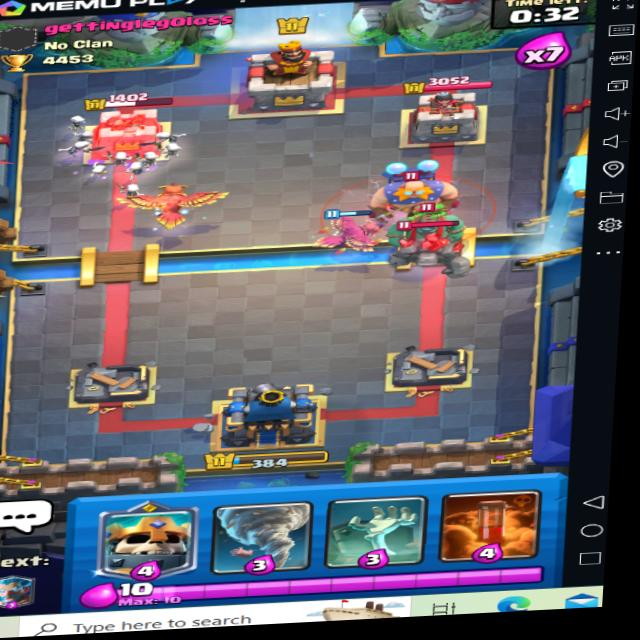Egiant: (366, 159, 466, 221)
Goblingiant: (391, 193, 465, 248)
Golem: (382, 217, 478, 283)
